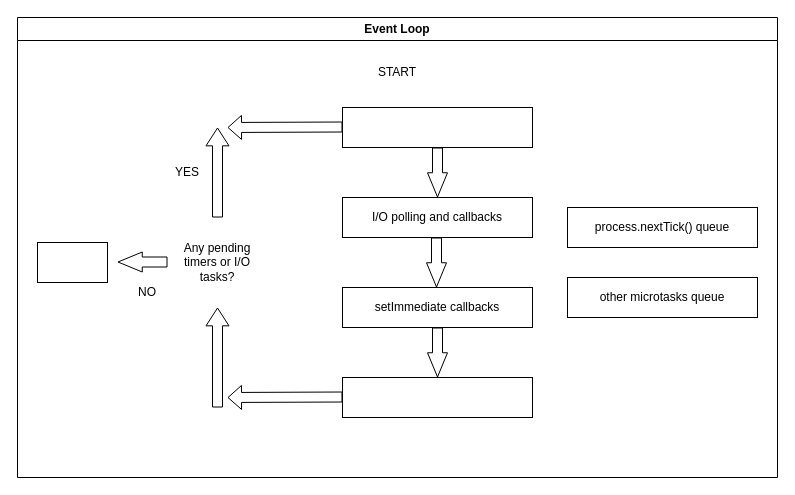
The diagram is 795 pixels wide and 495 high, and some of its shapes have lost their labels. Each missing label, with the centre of its shape:
"close callbacks" belongs at point 437,397.
"EXIT" belongs at point 72,262.
"Expired timer callbacks" belongs at point 437,127.
